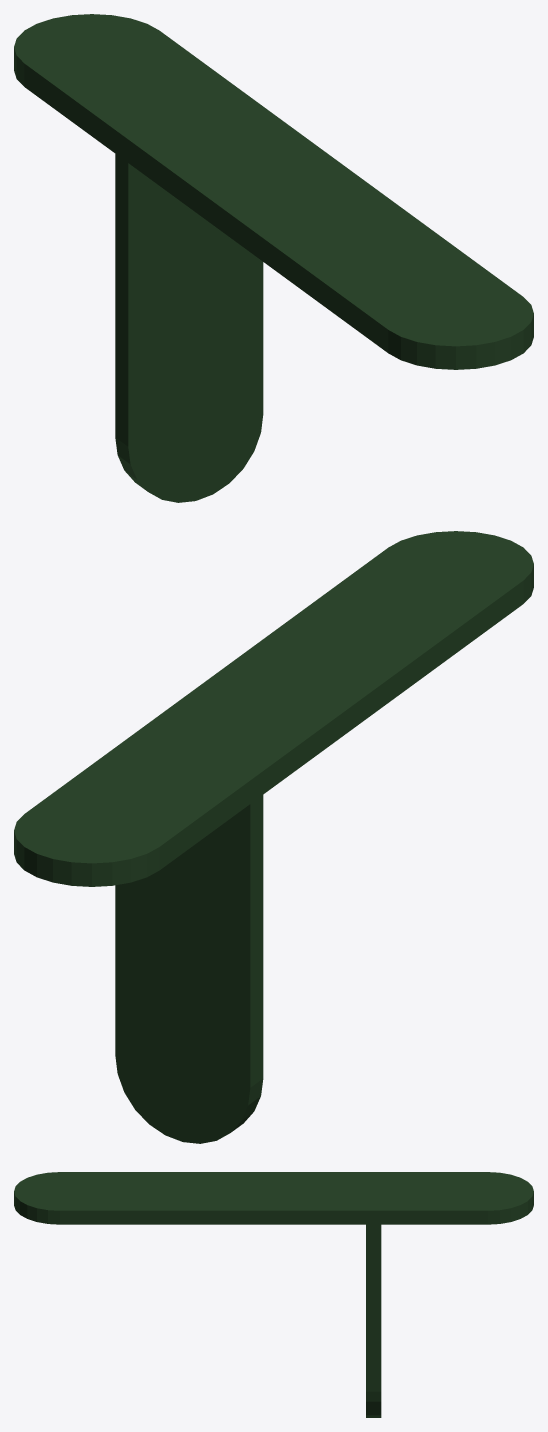
File: ant_jaw_vis_1.dae
3 views of the same model, one above another, from view 1: azimuth 30°, elevation 25°; view 2: azimuth 150°, elevation 25°; view 3: azimuth 270°, elevation 25° (orthographic). The views are drawn at different scales.
Parts seen in each view (by area): view 1: node; view 2: node; view 3: node.
Boxes of the visible parts, x1,y1,x2,y2 form: node: (14,14,533,502); node: (14,531,533,1143); node: (14,1172,533,1417).
Bounding box in the file's own units: 0.018 × 0.0481 × 0.102.
